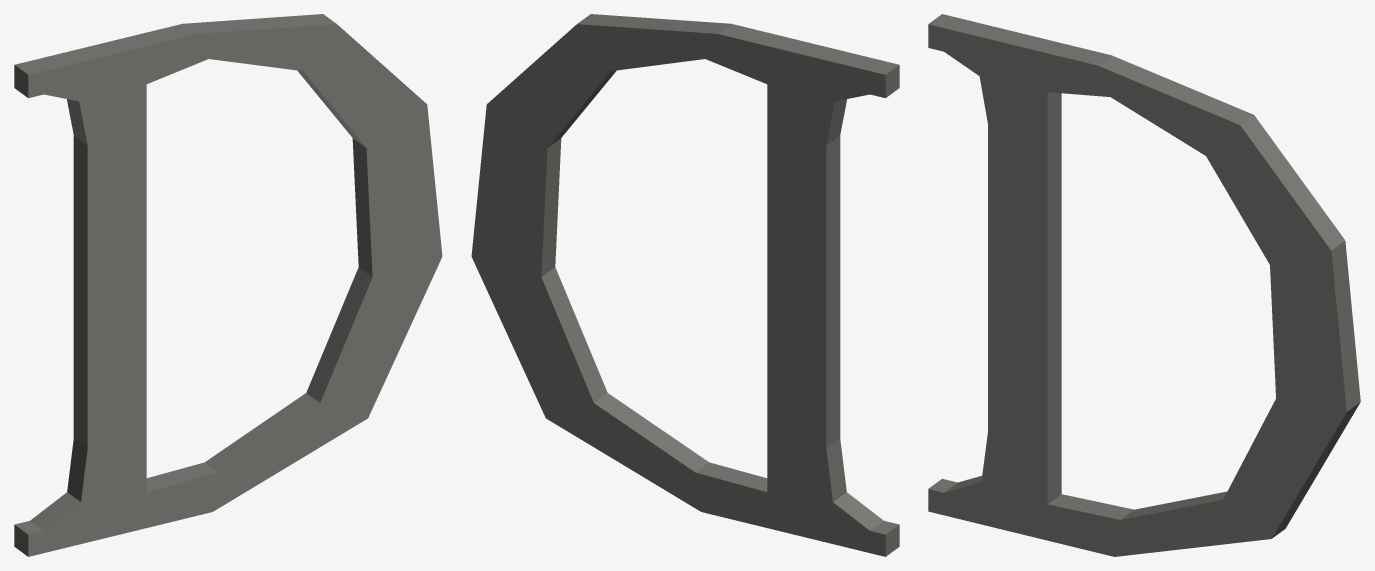
The model's file is ancient_SM_Prop_Numeral_D_01.gltf.
The picture shows the model from 3 angles, left to right: view 1: azimuth 30°, elevation 25°; view 2: azimuth 150°, elevation 25°; view 3: azimuth 330°, elevation 25°; orthographic projection.
Parts seen in each view (by area): view 1: SM_Prop_Numeral_D_01; view 2: SM_Prop_Numeral_D_01; view 3: SM_Prop_Numeral_D_01.
Boxes of the visible parts, bbox=[...] form: SM_Prop_Numeral_D_01: bbox=[14, 14, 442, 556]; SM_Prop_Numeral_D_01: bbox=[471, 14, 899, 556]; SM_Prop_Numeral_D_01: bbox=[928, 14, 1360, 556].
Size of the model in its own units: 0.4131 by 0.4595 by 0.024.
Materials: 1 (1 with a texture image).
